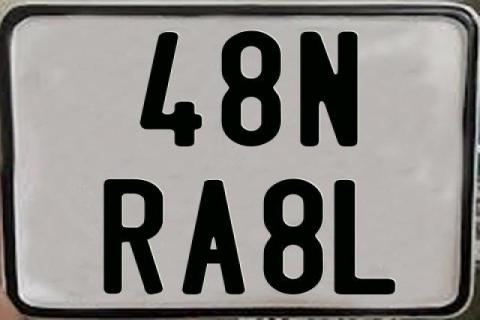0: (260, 177, 326, 297), (218, 29, 279, 150), (140, 32, 204, 146)
A: (181, 179, 245, 295)
L: (332, 180, 398, 296)
N: (299, 31, 363, 146)
R: (102, 179, 167, 296)
